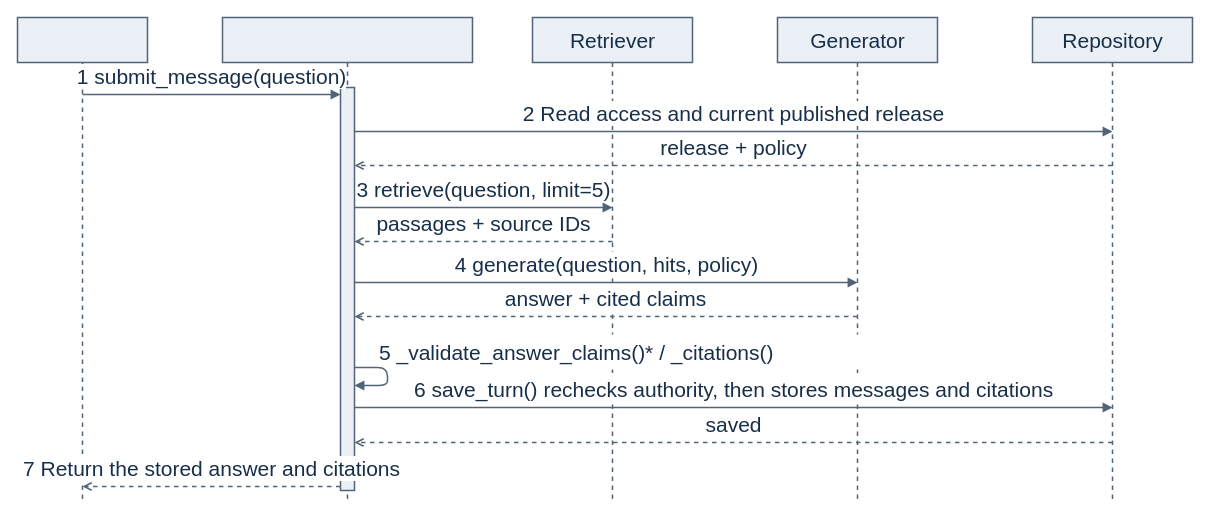
Some shapes in this 1211 by 522 pixel diagram are drawn without their labels. The centre of each missing label's shape, as x and y in pixels:
StudentTutoringService: the point at 347,39
Web UI: the point at 82,39
